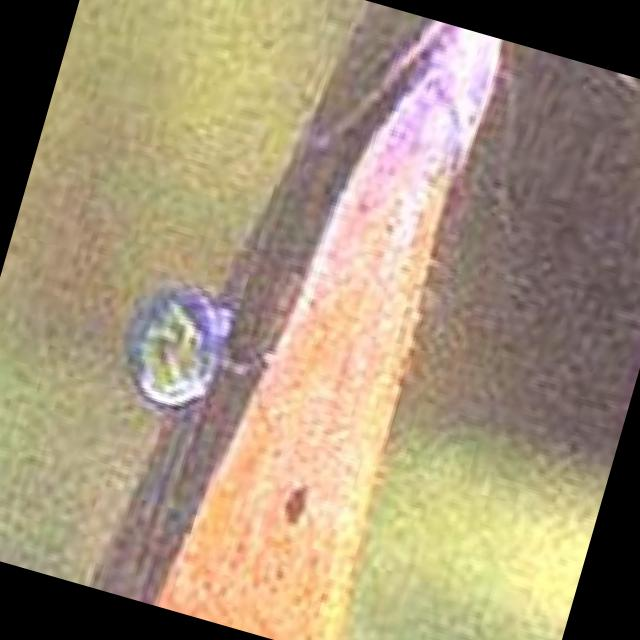stem-borer: (153, 0, 508, 640)
